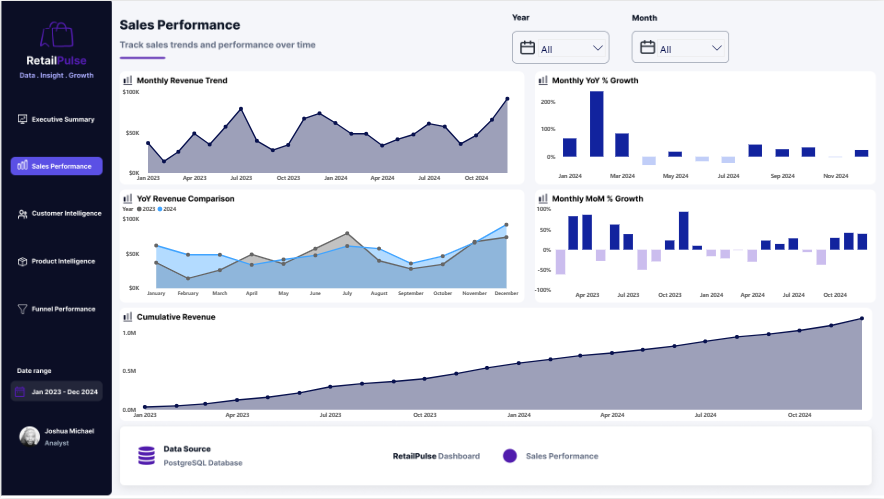

This screenshot's page, from the dashboard's own definition file:
{"tool":"powerbi","page":{"name":"Sales Performance","canvas":[1920,1080],"ordinal":1},"visuals":[{"type":"lineChart","fields":{"Category":["Date.Month Start"],"Y":["public orders.Total Revenue"]},"box":[258.5,184,873.2,219],"z":0},{"type":"clusteredColumnChart","fields":{"Y":["public orders.MOM %"],"Category":["Date.Month Start"]},"box":[1154.5,440,749.1,219],"z":1000},{"type":"clusteredColumnChart","title":"YOY % ","fields":{"Category":["Date.Month Start"],"Y":["public orders.YOY %"]},"box":[1167.3,176.4,736.4,222],"z":2000},{"type":"lineChart","title":"YoY Revenue Comparison","fields":{"Category":["Date.Month"],"Y":["public orders.Total Revenue"],"Series":["Date.Year"]},"box":[258.2,433,872.7,221],"z":3000},{"type":"lineChart","fields":{"Y":["public orders.Running Total Revenue"],"Category":["Date.Month Start"]},"box":[259.1,671.2,1643.9,247],"z":4000},{"type":"slicer","fields":{"Values":["Date.Month"]},"box":[1422,78,156,46],"z":5000},{"type":"slicer","fields":{"Values":["Date.Year"]},"box":[1162,78,156,46],"z":6000},{"type":"actionButton","box":[21,234,199,44],"z":7000},{"type":"actionButton","box":[21,336,199,44],"z":8000},{"type":"actionButton","box":[21,436,199,44],"z":9000},{"type":"actionButton","box":[21,544,199,44],"z":10000},{"type":"actionButton","box":[21,645,199,44],"z":11000}]}

Visuals, with their boxes on the page's 1920x1080 design canvas (x1, y1, x2, y2). These are canvas units, not pixel positions in the 884x499 screenshot, which may show the page scaled, cropped or inside an application window:
lineChart - Date.Month Start x public orders.Total Revenue: region(258, 184, 1132, 403)
clusteredColumnChart - public orders.MOM % x Date.Month Start: region(1154, 440, 1904, 659)
"YOY % " clusteredColumnChart: region(1167, 176, 1904, 398)
"YoY Revenue Comparison" lineChart: region(258, 433, 1131, 654)
lineChart - public orders.Running Total Revenue x Date.Month Start: region(259, 671, 1903, 918)
slicer - Date.Month: region(1422, 78, 1578, 124)
slicer - Date.Year: region(1162, 78, 1318, 124)
actionButton: region(21, 234, 220, 278)
actionButton: region(21, 336, 220, 380)
actionButton: region(21, 436, 220, 480)
actionButton: region(21, 544, 220, 588)
actionButton: region(21, 645, 220, 689)
